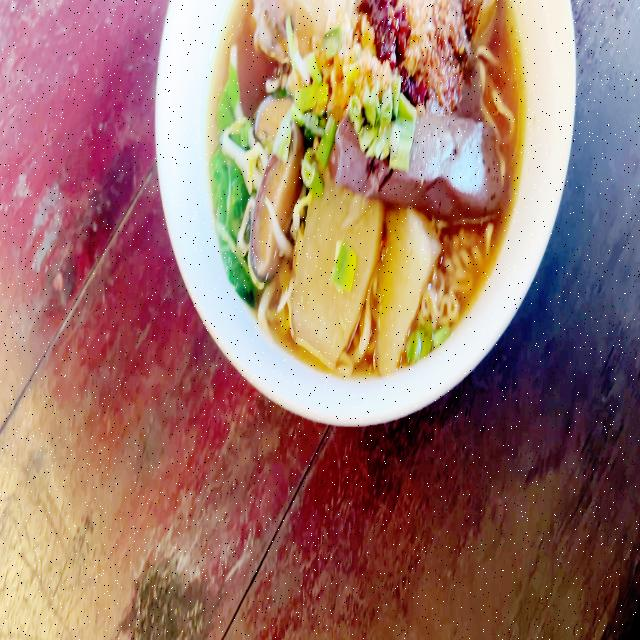boiled_chicken_blood_jelly: (336, 112, 500, 196), (450, 24, 480, 121)
chicken_drumstick: (258, 0, 494, 59)
daikon_radish: (291, 205, 432, 354)
noodle: (212, 0, 520, 344)
